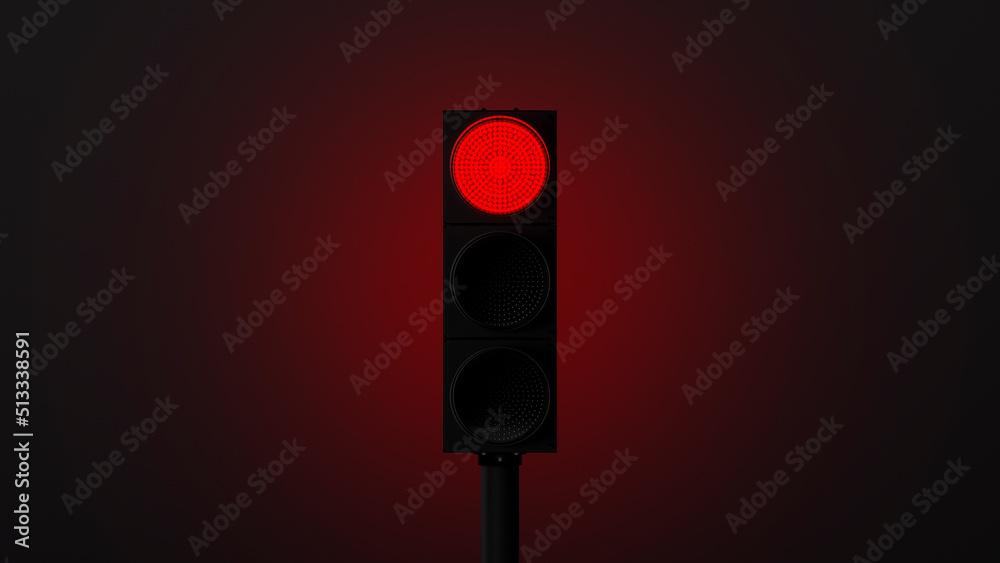red: (424, 99, 563, 453)
